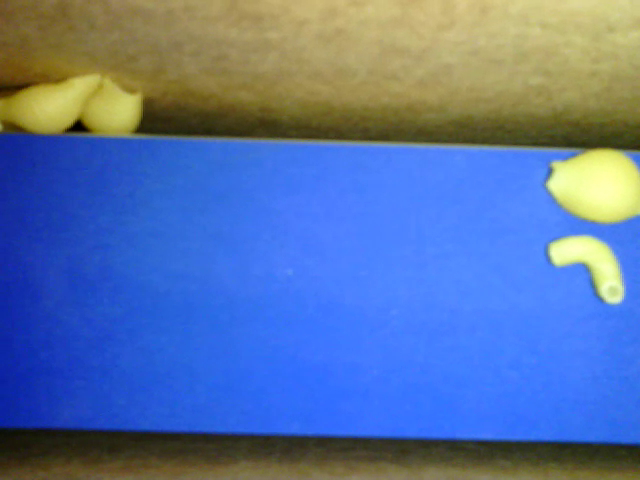elbow: (543, 234, 623, 303)
shell: (540, 146, 639, 224), (1, 69, 104, 133), (83, 74, 142, 134)
